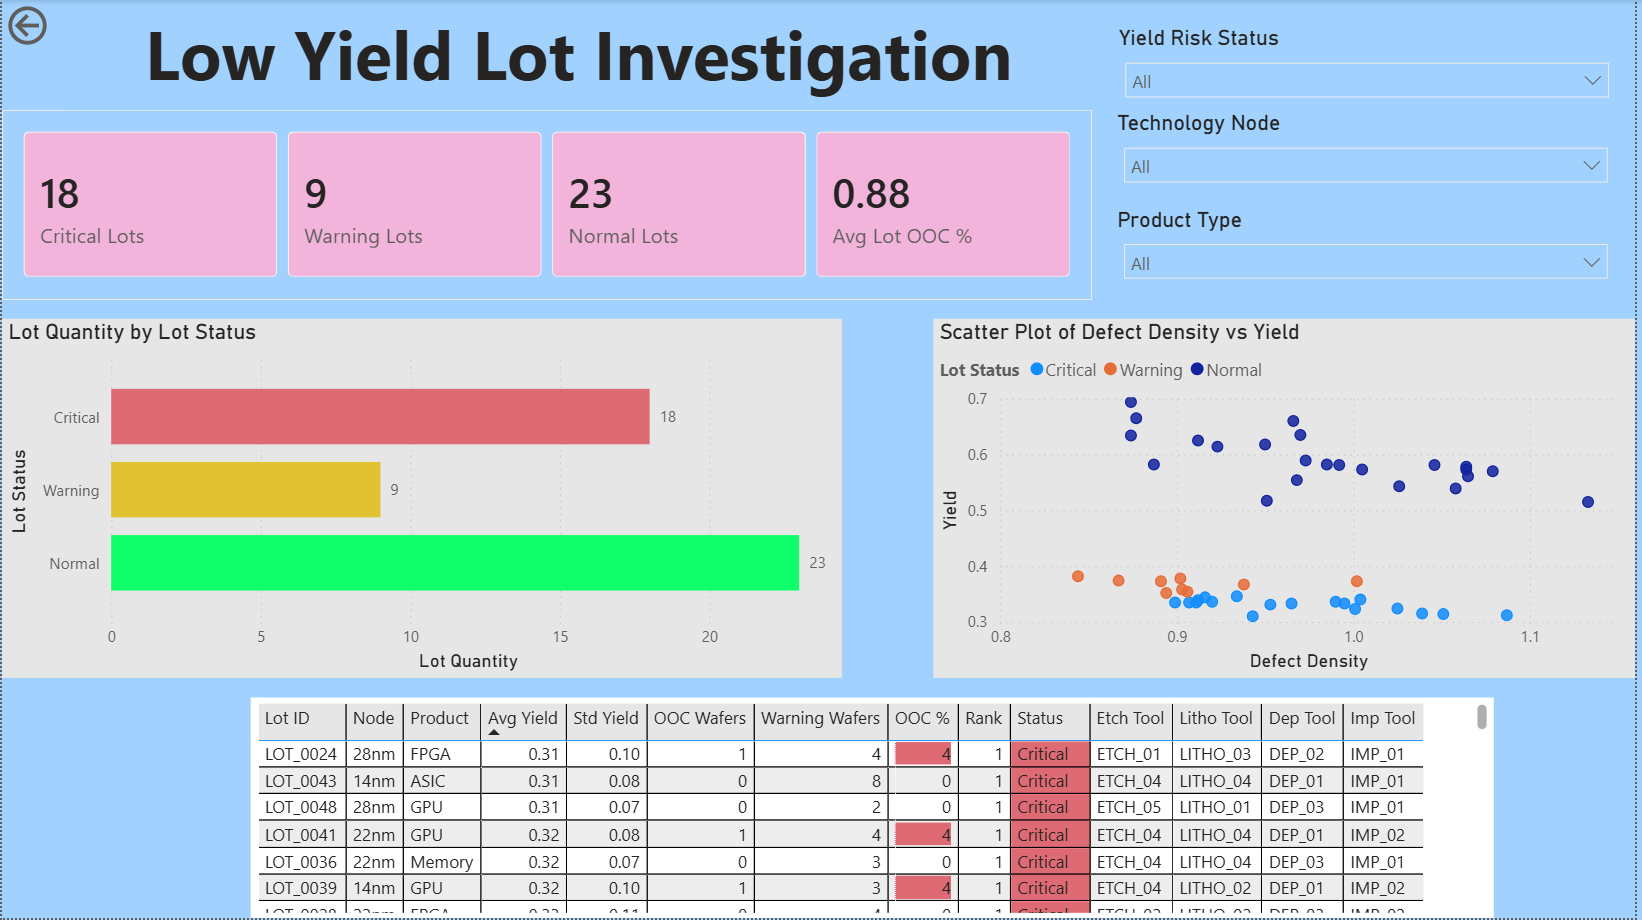

The dashboard page shown, as its layout file describes it:
{"tool":"powerbi","page":{"name":"Low Yield Lot","canvas":[1280,720],"ordinal":3},"visuals":[{"type":"cardVisual","fields":{"Data":["low_yield_lot_investigation.critical_lots","low_yield_lot_investigation.warning_lots","low_yield_lot_investigation.normal_lots","Avg(low_yield_lot_investigation.ooc_rate_pct)"]},"box":[0,86.3,854.4,148.9],"z":0},{"type":"textbox","box":[50.1,0,804.4,86.3],"z":1000},{"type":"clusteredBarChart","fields":{"Y":["CountNonNull(low_yield_lot_investigation.lot_id)"],"Category":["low_yield_lot_investigation.yield_risk_status"]},"box":[0,250,658.1,281.4],"z":2000},{"type":"scatterChart","title":"Scatter Plot of Defect Density vs Yield","fields":{"X":["Avg(low_yield_lot_investigation.avg_defect_density)"],"Y":["Avg(low_yield_lot_investigation.avg_yield)"],"Category":["low_yield_lot_investigation.lot_id"],"Series":["low_yield_lot_investigation.yield_risk_status"]},"box":[730.2,250,550,281.4],"z":3000},{"type":"slicer","title":"Yield Risk Status","fields":{"Values":["low_yield_lot_investigation.yield_risk_status"]},"box":[869.8,19.5,399.4,86.3],"z":4000},{"type":"slicer","title":"Technology Node","fields":{"Values":["low_yield_lot_investigation.technology_node"]},"box":[869.5,86.2,399.5,78.9],"z":5000},{"type":"tableEx","fields":{"Values":["low_yield_lot_investigation.lot_id","low_yield_lot_investigation.technology_node","low_yield_lot_investigation.product_type","low_yield_lot_investigation.avg_yield","low_yield_lot_investigation.std_yield","low_yield_lot_investigation.ooc_wafer_count","low_yield_lot_investigation.warning_wafer_count","low_yield_lot_investigation.ooc_rate_pct","low_yield_lot_investigation.worst_yield_rank","low_yield_lot_investigation.yield_risk_status","low_yield_lot_investigation.etch_tools","low_yield_lot_investigation.litho_tools"]},"box":[194.5,546.7,974.7,173.5],"z":6000},{"type":"slicer","title":"Product Type","fields":{"Values":["low_yield_lot_investigation.product_type"]},"box":[869.5,161.9,399.5,77.8],"z":7000},{"type":"actionButton","box":[0,0,100,40],"z":8000}]}

Visuals, with their boxes in screenshot pixels (x1, y1, x2, y2), scaled from the page's 1280x720 canvas onto the 1642x920 screenshot:
cardVisual - low_yield_lot_investigation.critical_lots x low_yield_lot_investigation.warning_lots: box=[0, 110, 1096, 301]
textbox: box=[64, 0, 1096, 110]
clusteredBarChart - CountNonNull(low_yield_lot_investigation.lot_id) x low_yield_lot_investigation.yield_risk_status: box=[0, 319, 844, 679]
"Scatter Plot of Defect Density vs Yield" scatterChart: box=[937, 319, 1641, 679]
"Yield Risk Status" slicer: box=[1116, 25, 1628, 135]
"Technology Node" slicer: box=[1115, 110, 1628, 211]
tableEx - low_yield_lot_investigation.lot_id x low_yield_lot_investigation.technology_node: box=[250, 699, 1500, 919]
"Product Type" slicer: box=[1115, 207, 1628, 306]
actionButton: box=[0, 0, 128, 51]
